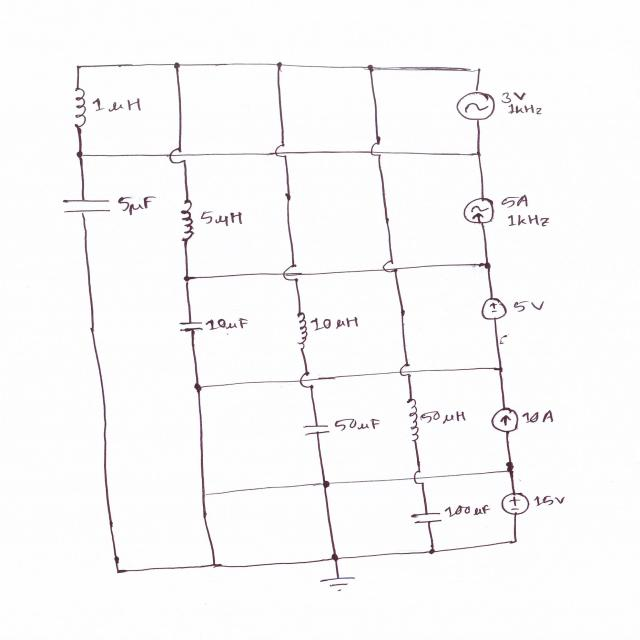ac_current: (452, 85, 498, 124)
capacitor: (62, 195, 115, 217), (403, 505, 448, 528), (301, 421, 335, 438), (177, 319, 207, 336)
current_source: (463, 196, 497, 228), (489, 404, 520, 435)
ground: (316, 572, 360, 598)
inductor: (62, 82, 100, 134), (171, 194, 203, 243), (394, 395, 426, 443), (289, 308, 313, 352)
voltage_source: (500, 490, 534, 519), (479, 295, 510, 323)
